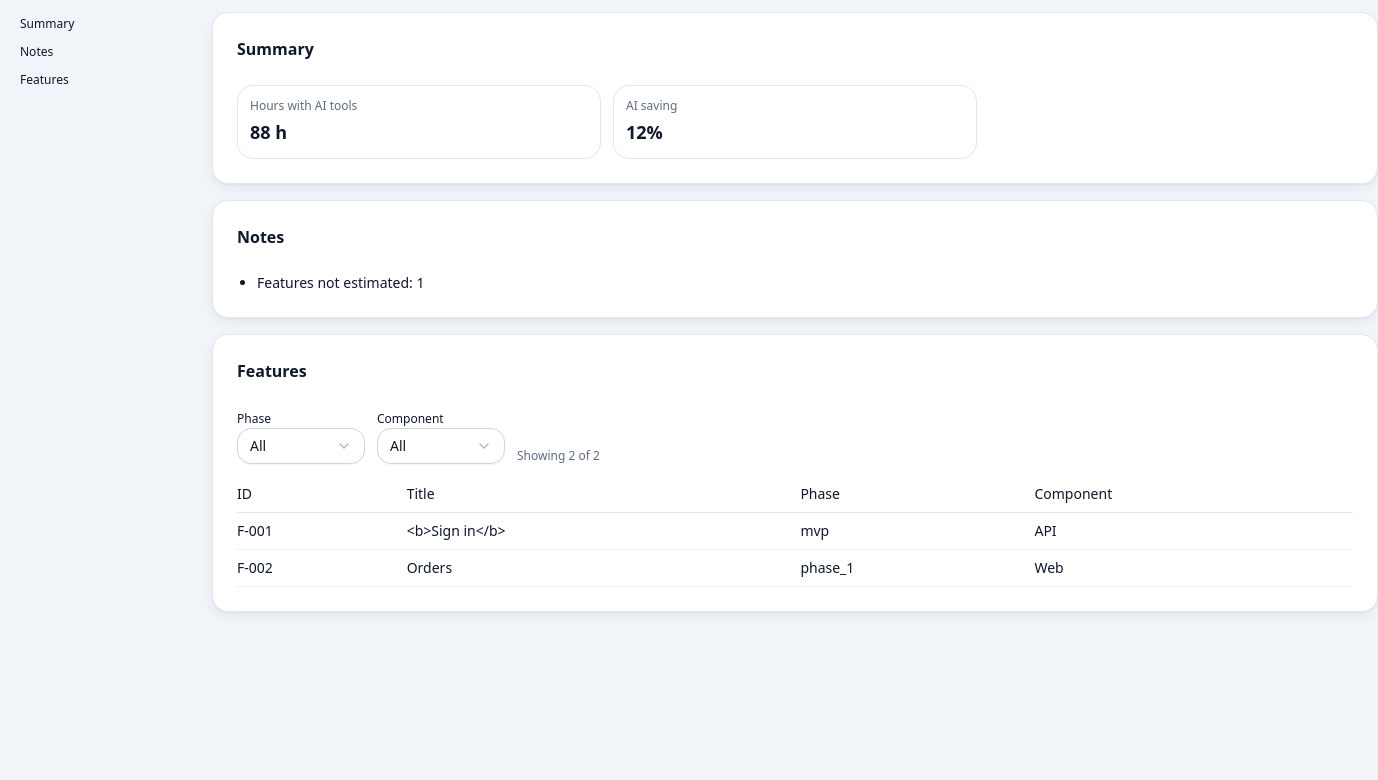
Scenario: Estimate viewer › shows cards, warning strip, filters and literal HTML
This screenshot has width=1378, height=780.
Expected: the text "Hours with AI tools" is shown, [250,97,357,114]
Expected: the text "88 h" is shown, [250,120,287,144]
Click the dropdown named "Phase": [301, 446] box [237,428,365,464]
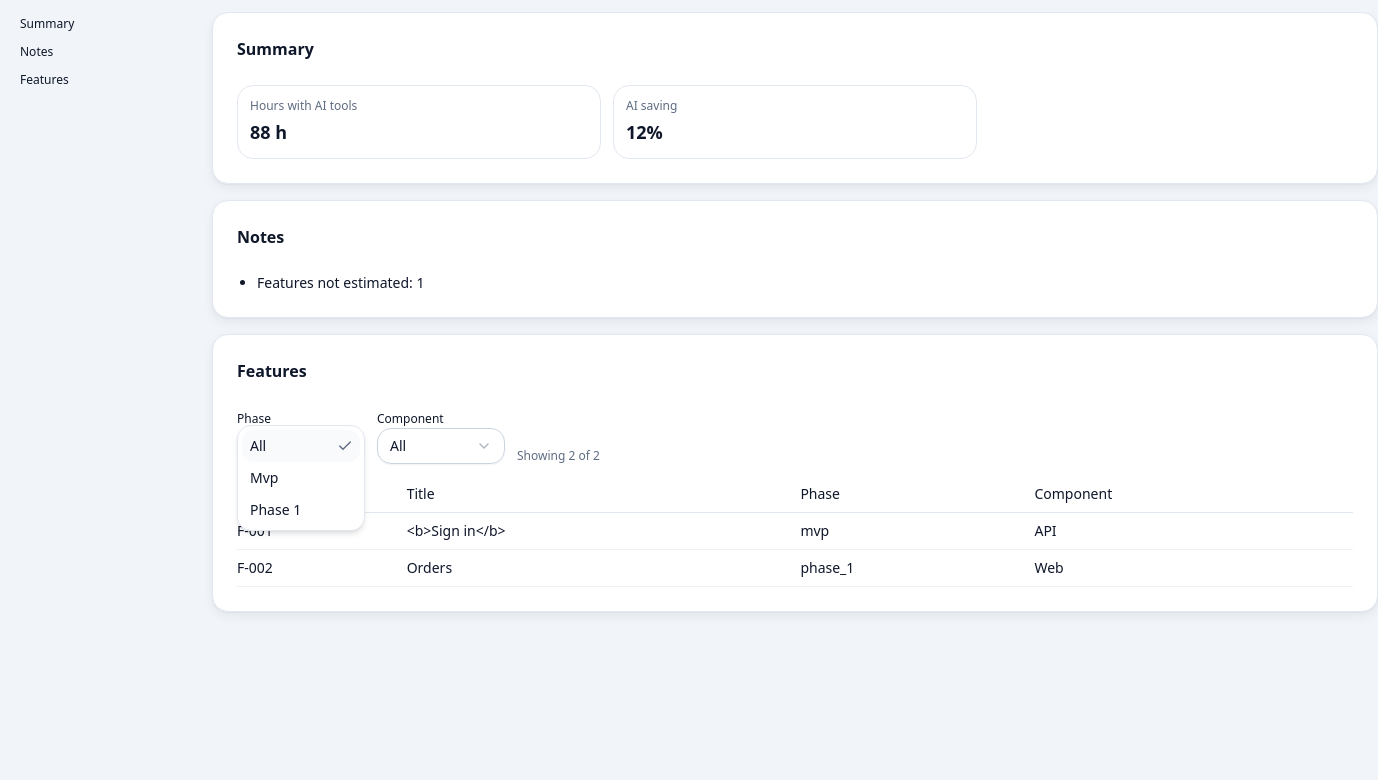
Click the option "Mvp": [264, 478] box [250,468,278,487]
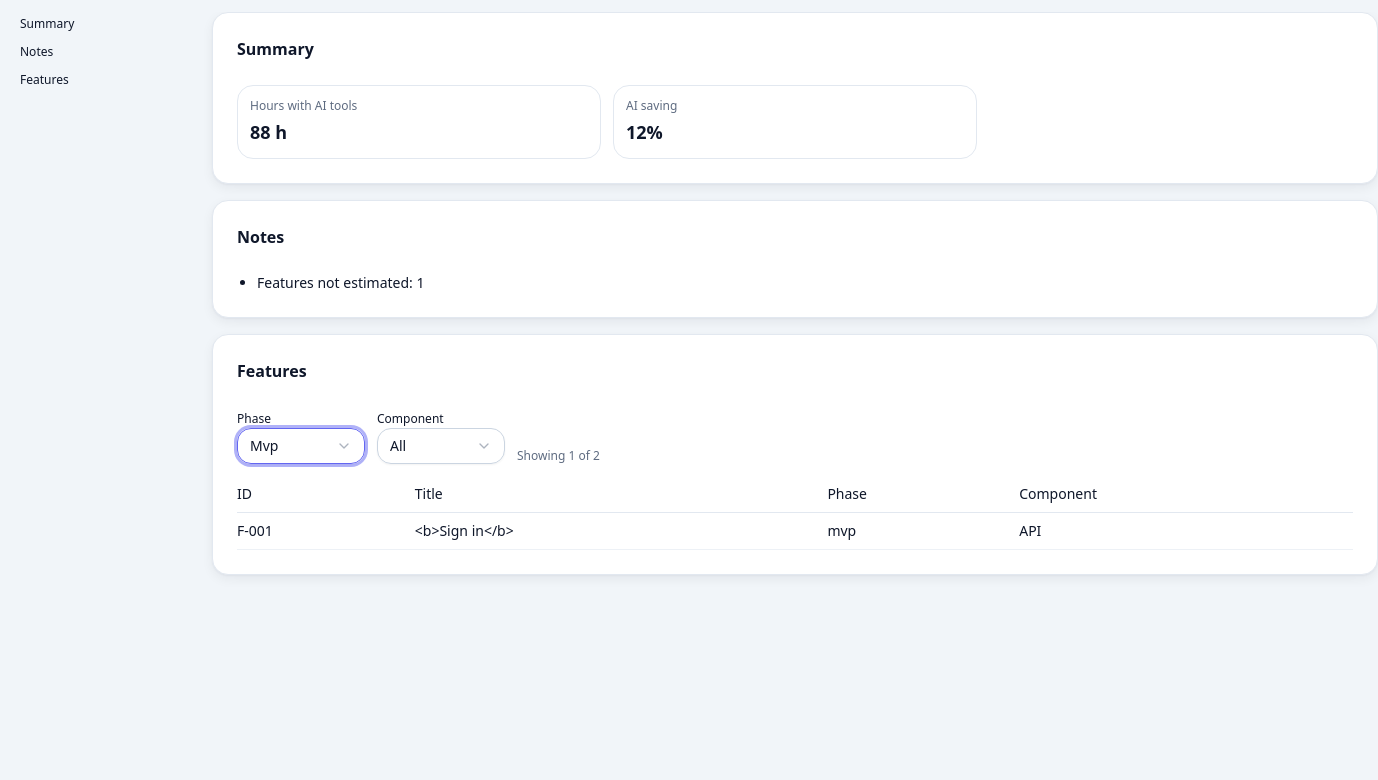
Expected: the text "<b>Sign in</b>" is shown, [415,512,827,550]
Expected: the text "Orders" is gone
